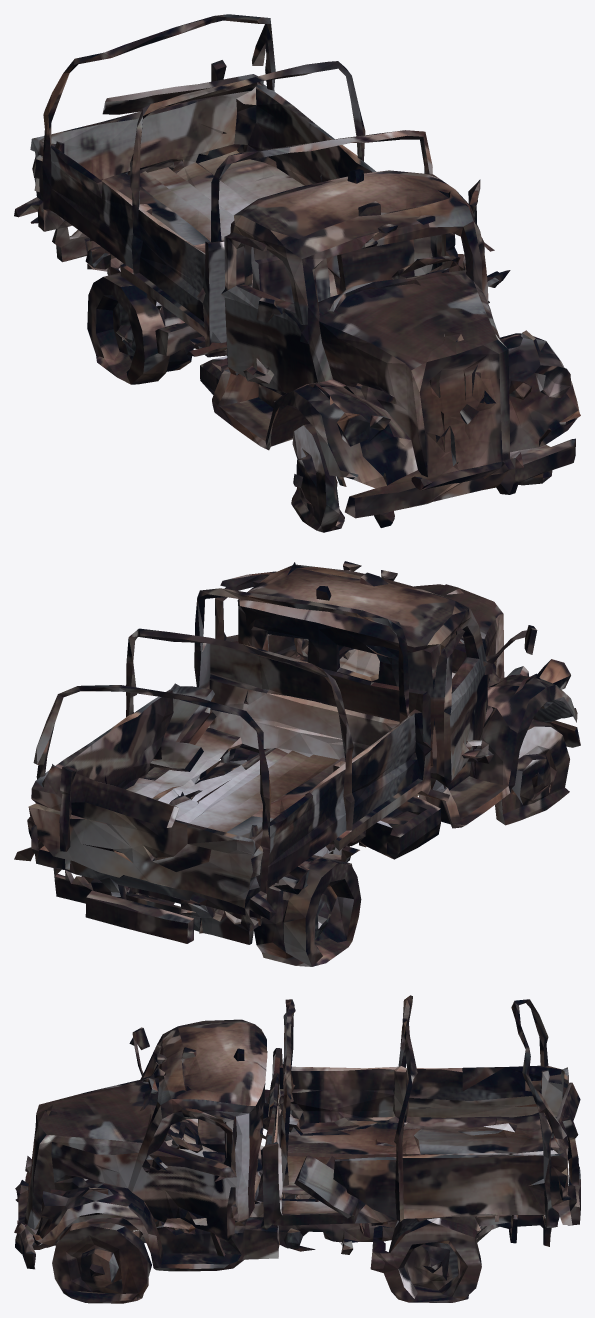
File: truck.obj
3 views of the same model, one above another, from view 1: azimuth 30°, elevation 25°; view 2: azimuth 150°, elevation 25°; view 3: azimuth 270°, elevation 25° (orthographic). The views are drawn at different scales.
Visible parts, largest first — view 1: truck; view 2: truck; view 3: truck.
Boxes of the visible parts, x1,y1,x2,y2 form: truck: (14,14,580,532); truck: (14,561,580,966); truck: (14,995,580,1303).
Size of the model in its own units: 2.83 by 2.68 by 6.
1 material, 1 textured.
